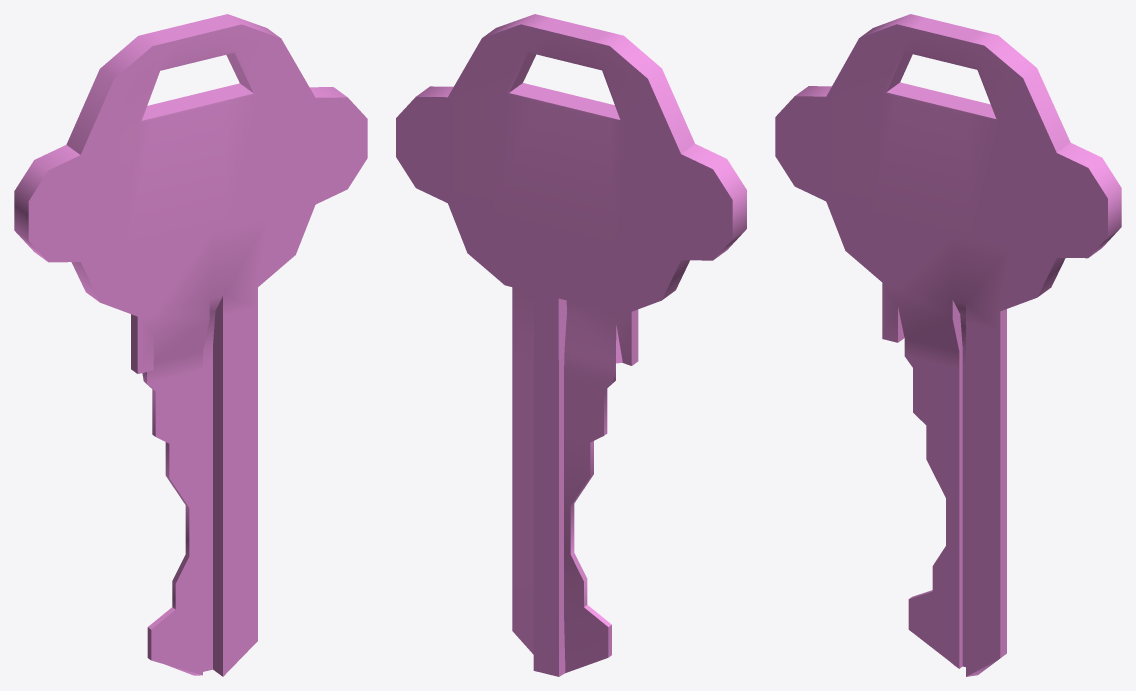
File: Keys_34.FBX
3 views of the same model, side by side, from view 1: azimuth 30°, elevation 25°; view 2: azimuth 150°, elevation 25°; view 3: azimuth 330°, elevation 25° (orthographic).
Parts seen in each view (by area): view 1: Keys_34; view 2: Keys_34; view 3: Keys_34.
Part boxes in pixels (x1,y1,x2,y2): Keys_34: [14, 14, 367, 676]; Keys_34: [396, 14, 746, 676]; Keys_34: [775, 14, 1121, 676].
Bounding box in the file's own units: 0.9174 × 1.68 × 0.0666.
